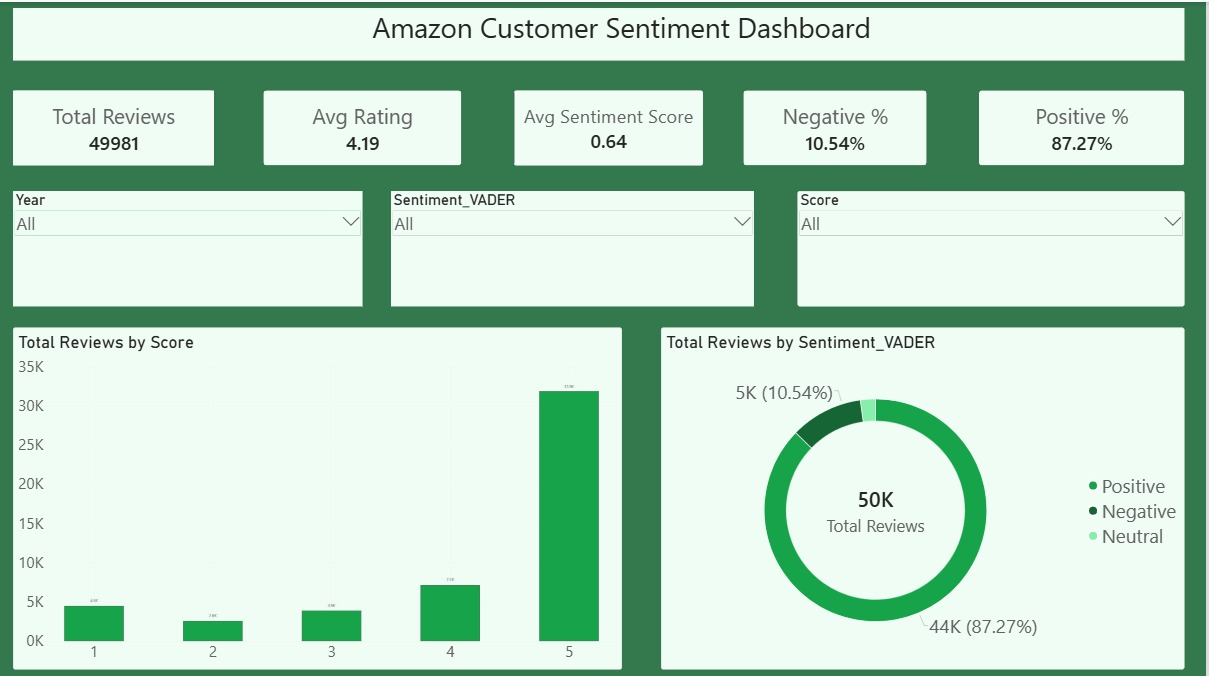

This screenshot's page, from the dashboard's own definition file:
{"tool":"powerbi","page":{"name":"Overview","canvas":[3840,2160],"ordinal":0},"visuals":[{"type":"textbox","box":[47.7,19.1,3726.8,167],"z":0},{"type":"cardVisual","fields":{"Data":["Reviews.Total Reviews"]},"box":[47.7,281.5,639.4,238.6],"z":1000},{"type":"cardVisual","fields":{"Data":["Reviews.Avg Rating"]},"box":[844.6,281.5,629.9,238.6],"z":2000},{"type":"cardVisual","fields":{"Data":["Reviews.Avg Sentiment Score"]},"box":[1641.5,281.5,601.3,238.6],"z":3000},{"type":"cardVisual","fields":{"Data":["Reviews.Negative %"]},"box":[2371.6,281.5,582.2,238.6],"z":4000},{"type":"cardVisual","fields":{"Data":["Reviews.Positive %"]},"box":[3120.8,281.5,653.7,238.6],"z":5000},{"type":"donutChart","fields":{"Category":["Reviews.Sentiment_VADER"],"Y":["Reviews.Total Reviews"]},"box":[2109.2,1035.5,1665.4,1088],"z":6000},{"type":"clusteredColumnChart","fields":{"Category":["Reviews.Score"],"Y":["Reviews.Total Reviews"]},"box":[47.7,1035.5,1937.4,1088],"z":6001},{"type":"slicer","fields":{"Values":["Reviews.Year"]},"box":[47.7,601.3,1111.8,367.4],"z":6002},{"type":"slicer","fields":{"Values":["Reviews.Sentiment_VADER"]},"box":[1250.2,601.3,1154.8,367.4],"z":6003},{"type":"slicer","fields":{"Values":["Reviews.Score"]},"box":[2543.4,601.3,1231.1,367.4],"z":6004}]}

Visuals, with their boxes in screenshot pixels (x1, y1, x2, y2), scaled from the page's 3840x2160 canvas onto the 1209x676 screenshot:
textbox: (15,6,1188,58)
cardVisual - Reviews.Total Reviews: (15,88,216,163)
cardVisual - Reviews.Avg Rating: (266,88,464,163)
cardVisual - Reviews.Avg Sentiment Score: (517,88,706,163)
cardVisual - Reviews.Negative %: (747,88,930,163)
cardVisual - Reviews.Positive %: (983,88,1188,163)
donutChart - Reviews.Sentiment_VADER x Reviews.Total Reviews: (664,324,1188,665)
clusteredColumnChart - Reviews.Score x Reviews.Total Reviews: (15,324,625,665)
slicer - Reviews.Year: (15,188,365,303)
slicer - Reviews.Sentiment_VADER: (394,188,757,303)
slicer - Reviews.Score: (801,188,1188,303)
